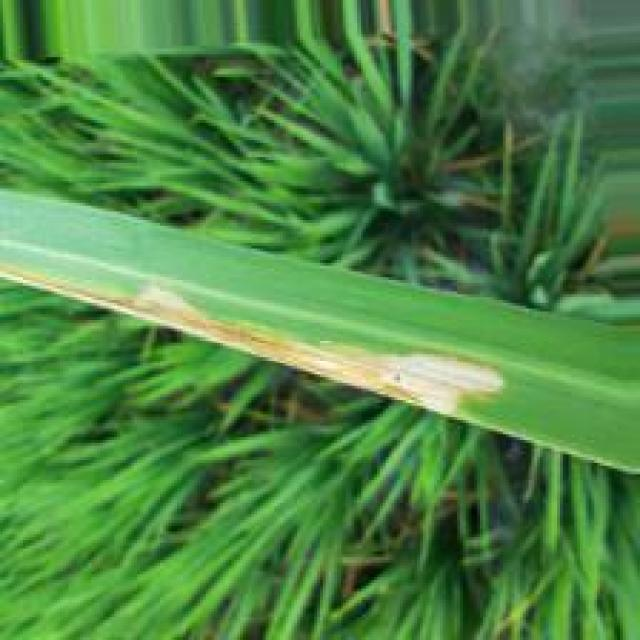Bacterial_Leaf_Blight: (0, 261, 507, 417)
